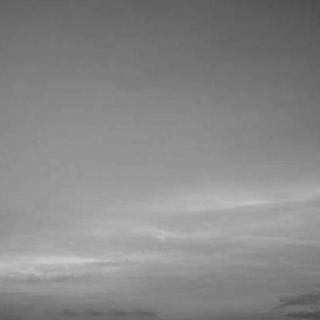Cirrostratus: (11, 179, 320, 320)
